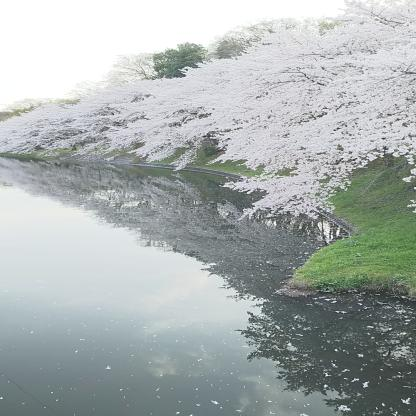Someiyoshino: (0, 3, 406, 217)
